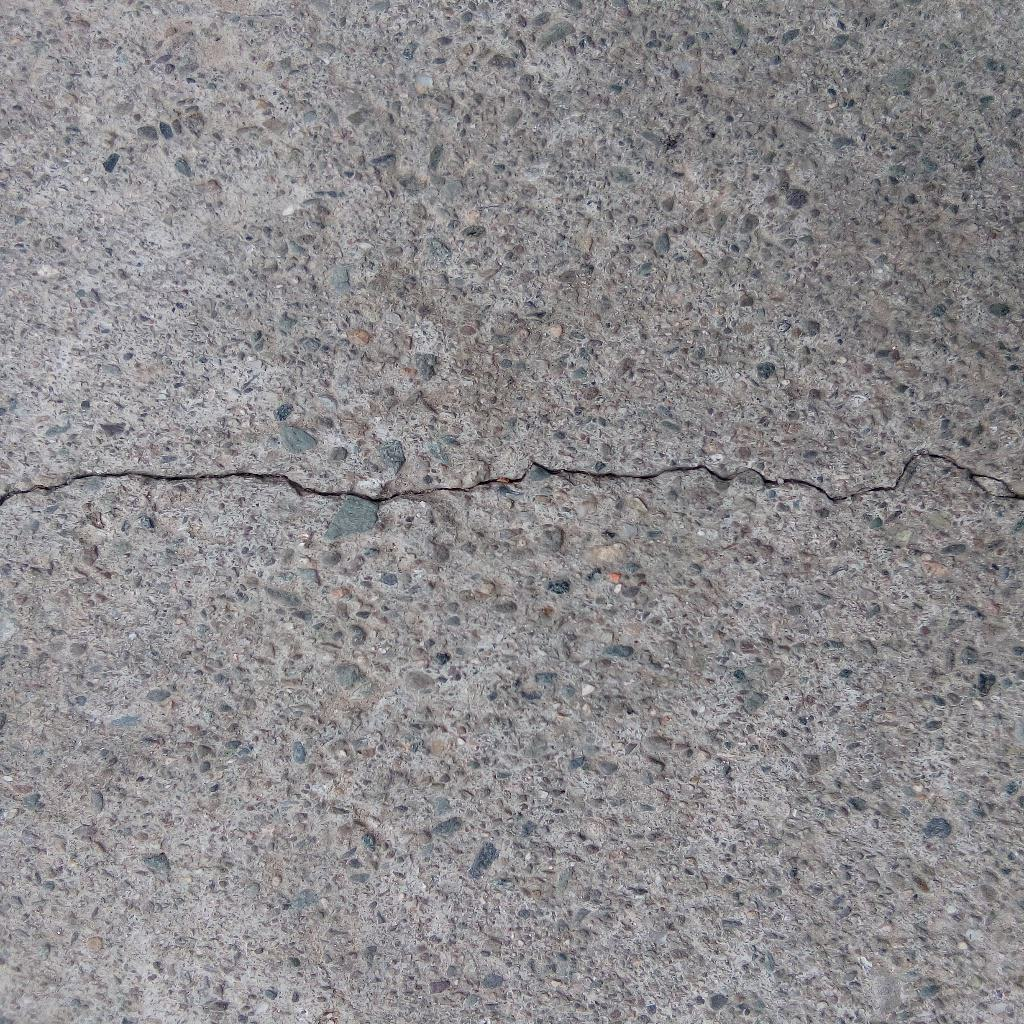Crack: (1, 449, 1024, 506)
